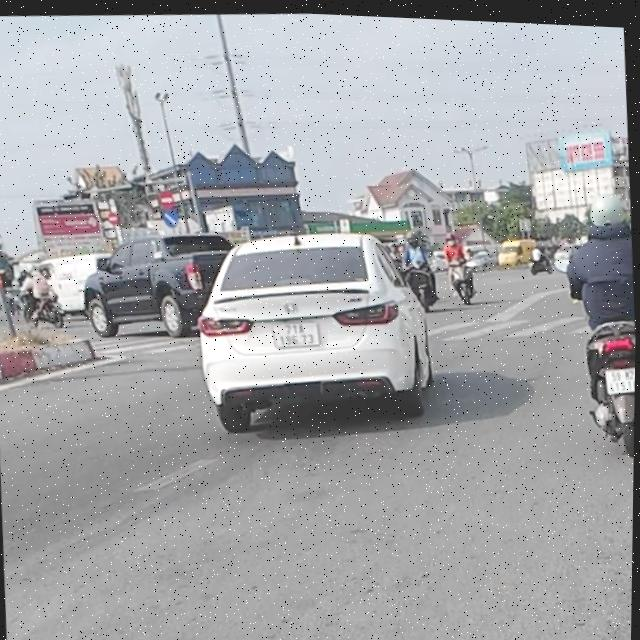car: (191, 221, 443, 455), (77, 229, 231, 343)
motorcycle: (575, 316, 636, 456), (449, 258, 483, 310)
plate: (265, 314, 326, 352), (600, 363, 635, 396)
